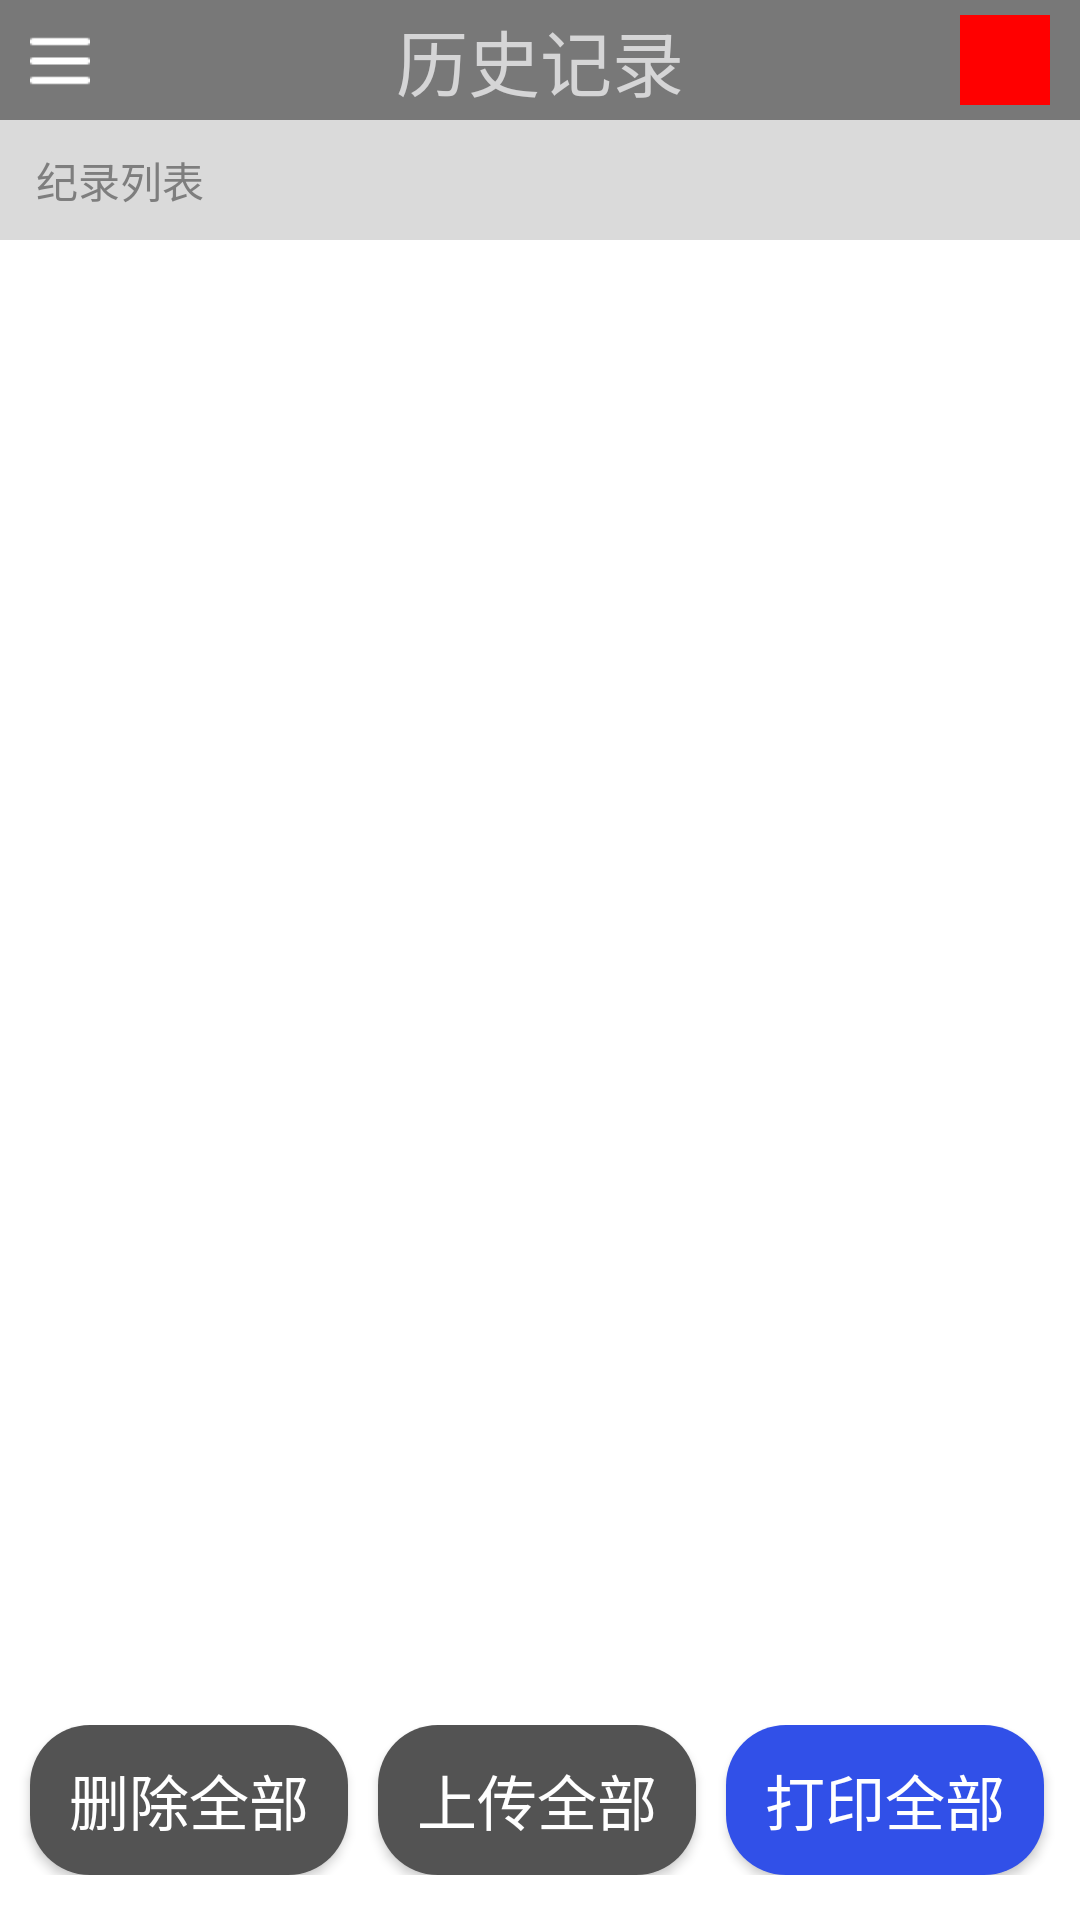

Screen size 1080px x 1920px. Icon name, then its box in pixels as [x1=x1, y1=y1, x2=x2, y2=y2]:
menu: [x1=30, y1=37, x2=90, y2=85]
